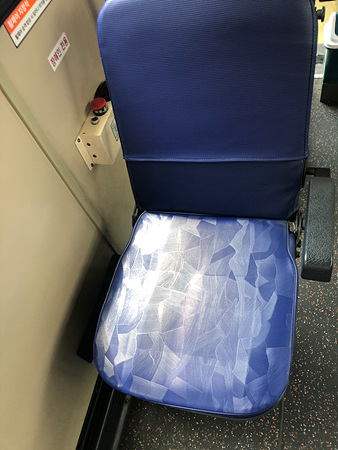seat: (95, 9, 309, 408)
